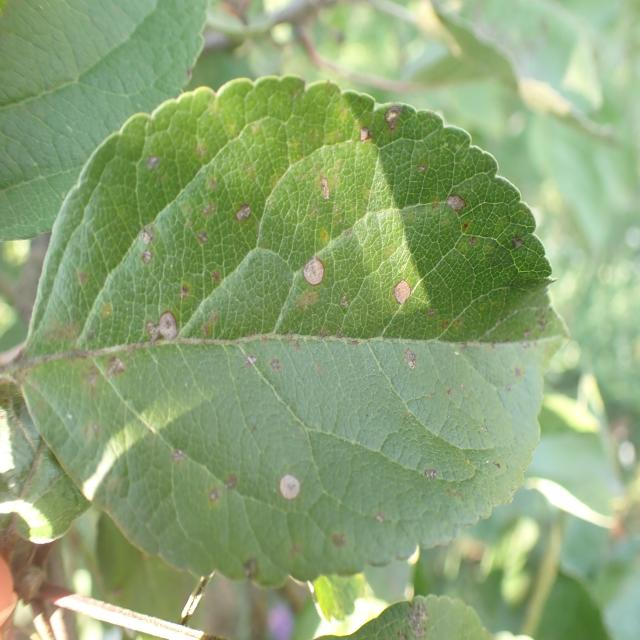frog-eye-leaf-spot: (21, 73, 572, 591)
